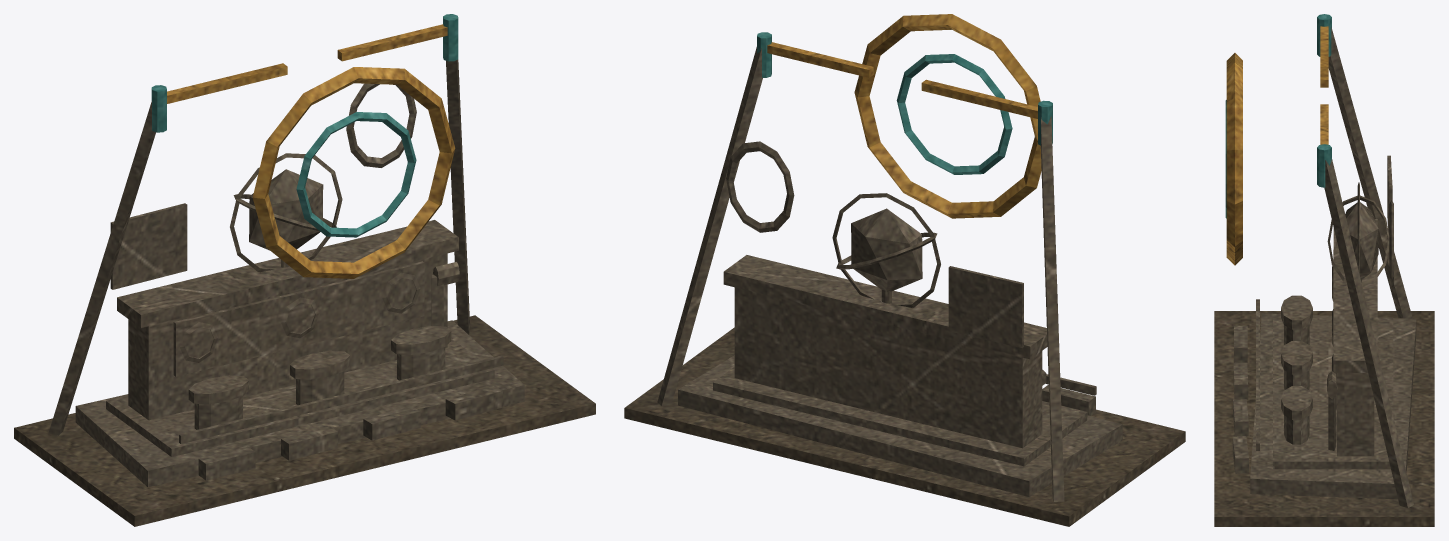
The model's file is archive-entry-gate.glb.
3 renders of one model, left to right at view 1: azimuth 30°, elevation 25°; view 2: azimuth 150°, elevation 25°; view 3: azimuth 270°, elevation 25°, orthographic. The views are drawn at different scales.
Visible parts, largest first — view 1: archive-entry-gate; view 2: archive-entry-gate; view 3: archive-entry-gate.
Boxes of the visible parts, x1=… form: archive-entry-gate: x1=14, y1=14, x2=595, y2=526; archive-entry-gate: x1=624, y1=14, x2=1185, y2=526; archive-entry-gate: x1=1214, y1=14, x2=1434, y2=526.
Bounding box in the file's own units: 10.6 × 8.69 × 4.8.
Materials: 1 (1 with a texture image).
